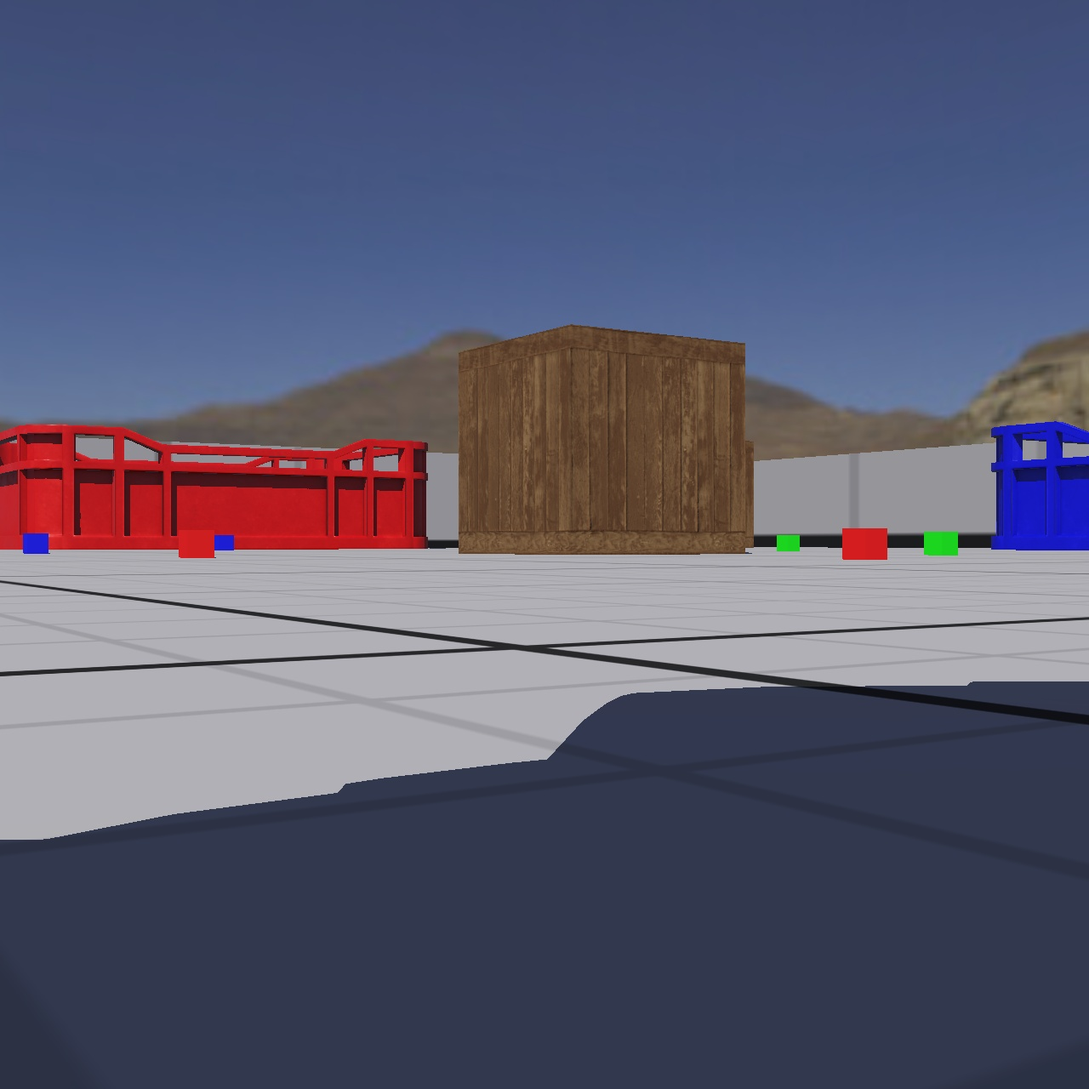caixa_azul: (986, 415, 1089, 554)
caixa_vermelha: (0, 419, 433, 554)
cubo_azul: (206, 525, 245, 556), (20, 529, 55, 554)
cubo_verde: (917, 523, 964, 564), (768, 523, 805, 562)
cubo_vermelho: (835, 517, 894, 568), (171, 519, 218, 564)
obstaculo: (447, 308, 756, 566)
